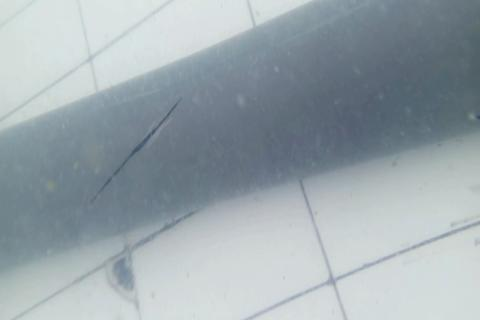keretakan: (88, 94, 184, 201), (470, 109, 480, 122)
